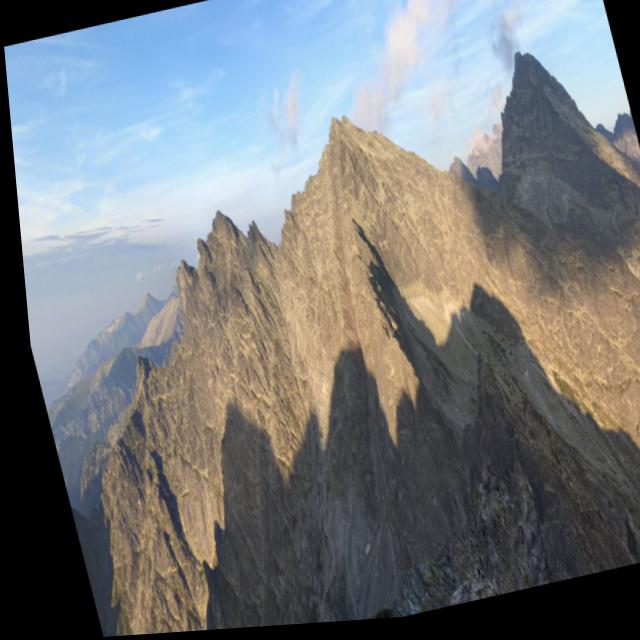Rysy: (229, 3, 445, 237)
